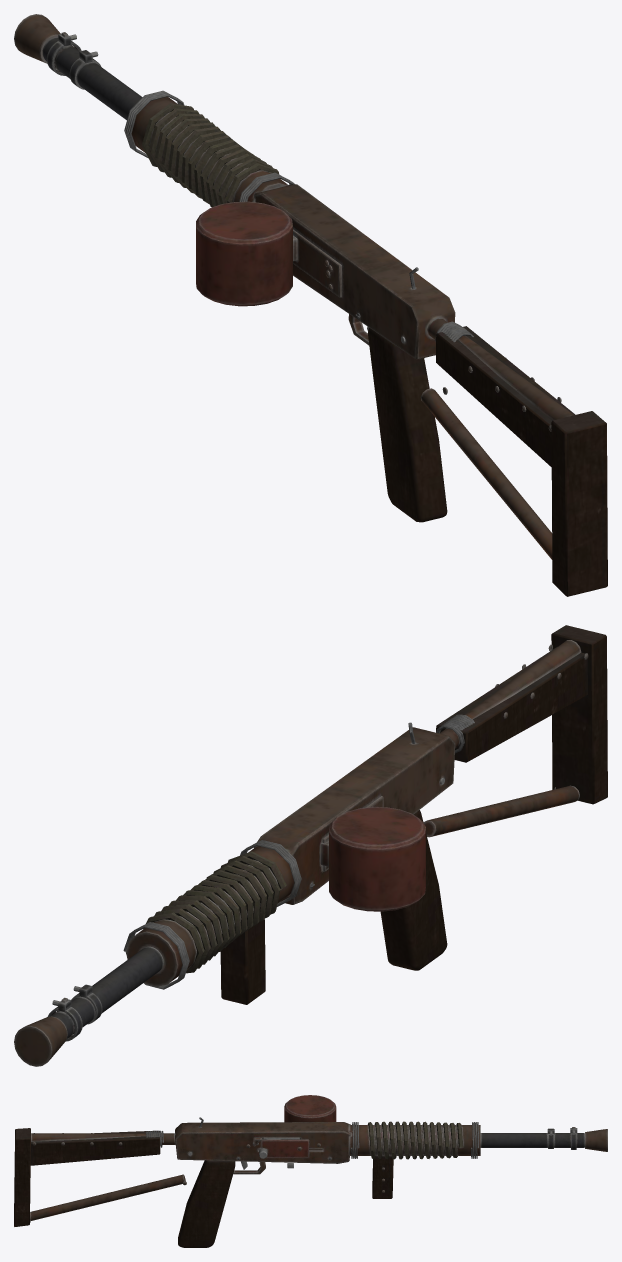
File: zhelvar_rifle.glb
3 views of the same model, one above another, from view 1: azimuth 30°, elevation 25°; view 2: azimuth 150°, elevation 25°; view 3: azimuth 270°, elevation 25° (orthographic). The views are drawn at different scales.
Visible parts, largest first — view 1: zhelvar_rifle; view 2: zhelvar_rifle; view 3: zhelvar_rifle.
Part boxes in pixels (<box>): zhelvar_rifle: <box>14,14,607,596</box>; zhelvar_rifle: <box>14,625,607,1066</box>; zhelvar_rifle: <box>14,1095,607,1247</box>.
Size of the model in its own units: 0.161 by 0.2499 by 1.05.
1 material, 1 textured.
